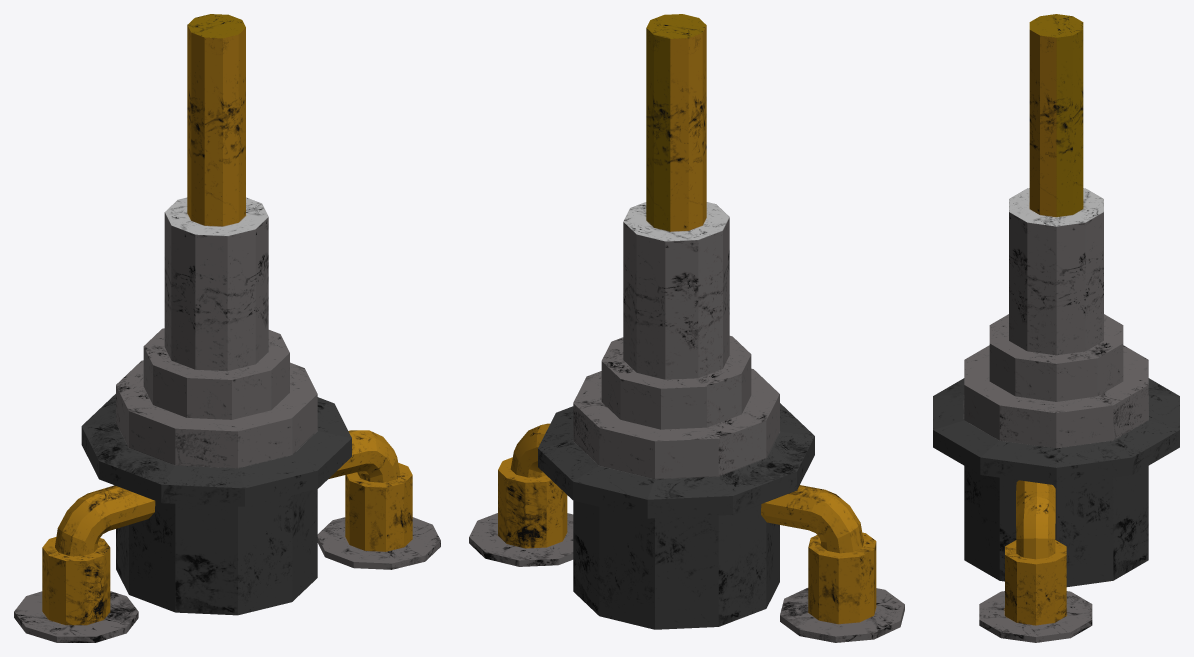
Rendered from Machine_Déco_8.fbx.
The picture shows the model from 3 angles, left to right: view 1: azimuth 30°, elevation 25°; view 2: azimuth 150°, elevation 25°; view 3: azimuth 270°, elevation 25°; orthographic projection. The views are drawn at different scales.
Parts seen in each view (by area): view 1: Machine_déco_8; view 2: Machine_déco_8; view 3: Machine_déco_8.
Part boxes in pixels (x1,y1,x2,y2): Machine_déco_8: (14,14,440,642); Machine_déco_8: (469,14,904,642); Machine_déco_8: (933,14,1179,642).
Bounding box in the file's own units: 4.67 × 5.95 × 2.55.
